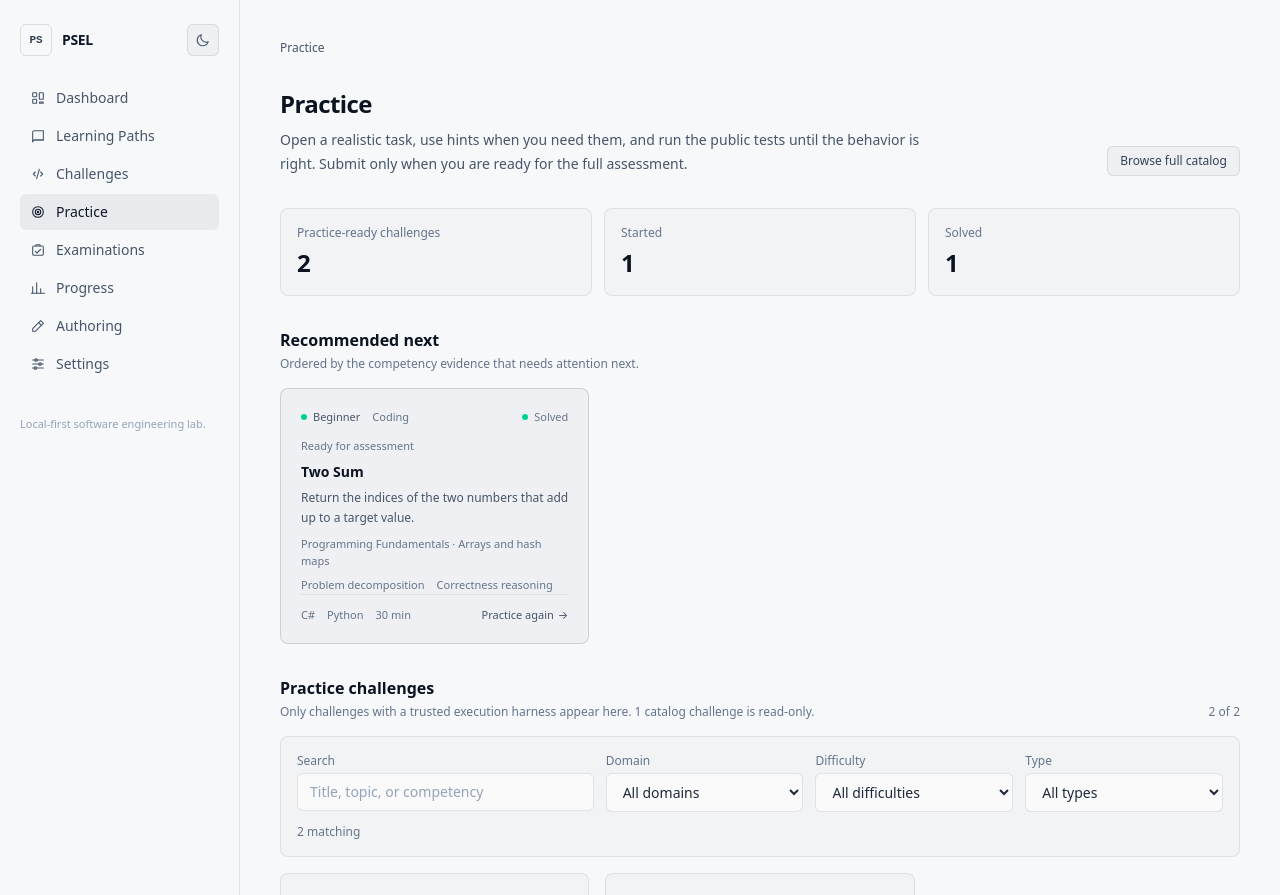
Test: PracticePage › filters the practice list by difficulty
Check: the heading "Practice challenges" is shown, box left=280, top=677, right=434, bottom=699
Select "Intermediate" in the dropdown labelled "Difficulty". click: [914, 792]
box: left=815, top=773, right=1013, bottom=812
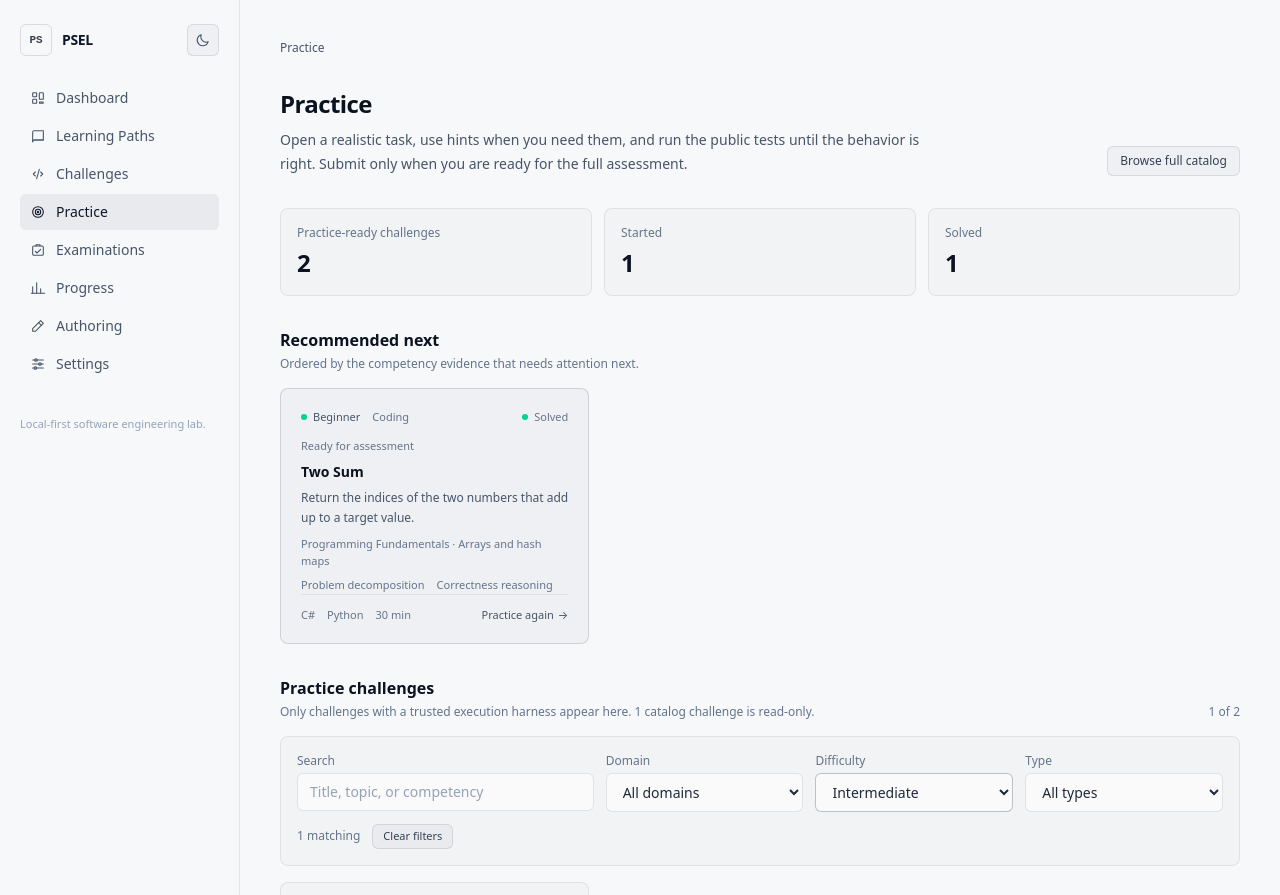
Check: the text "1 matching" is shown, box left=297, top=828, right=360, bottom=844
Click the button "Clear filters". click: [413, 836]
box: left=372, top=824, right=453, bottom=849
(page scrolled)
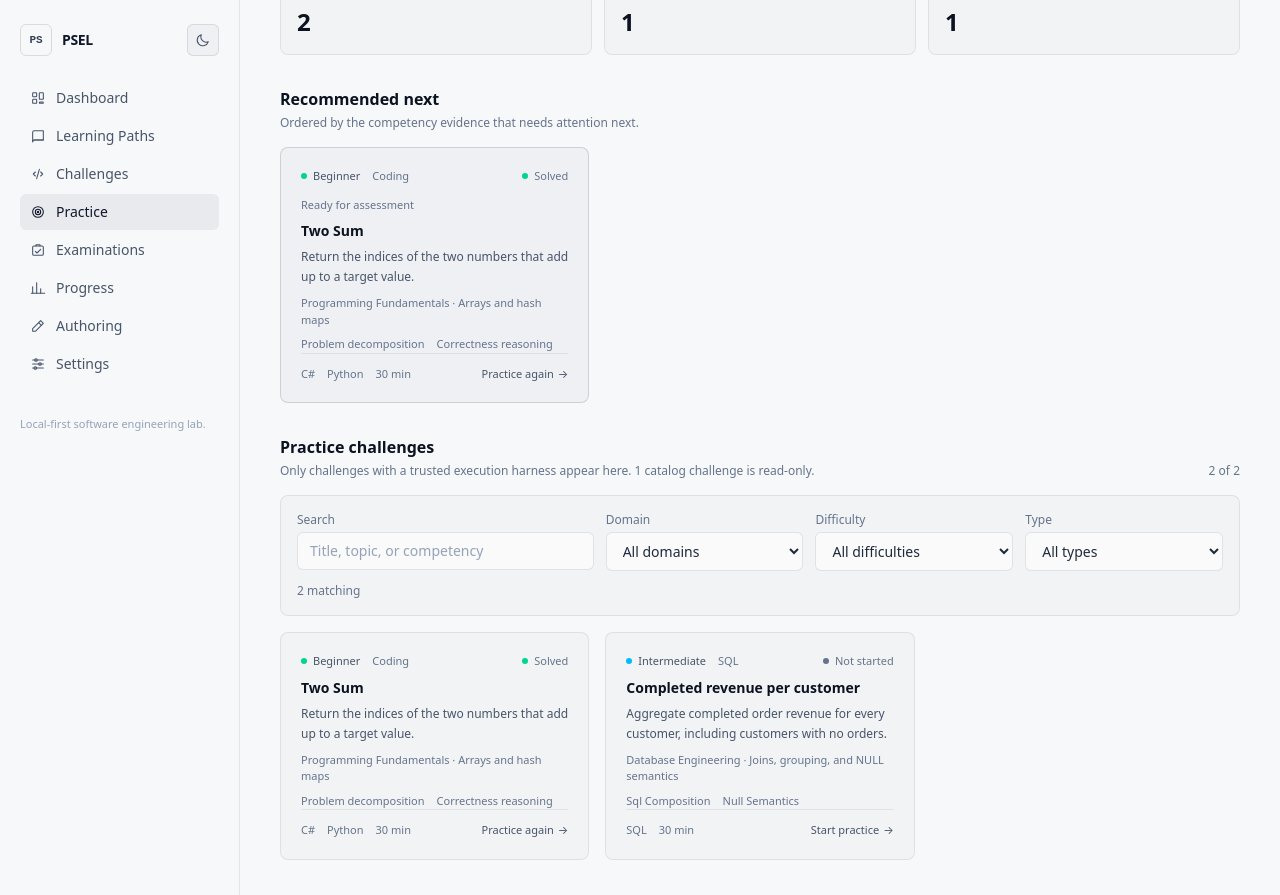
Check: the text "2 matching" is shown, box left=297, top=583, right=360, bottom=599
Check: the link "Two Sum" is shown, box left=280, top=632, right=589, bottom=860
